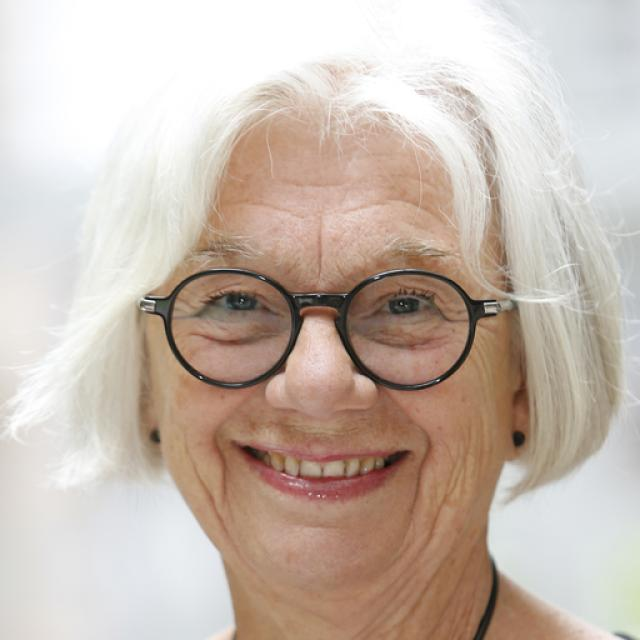Wrinkle: (342, 194, 443, 223), (223, 193, 307, 221), (306, 212, 329, 282)
